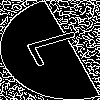L: (25, 25, 98, 68)
